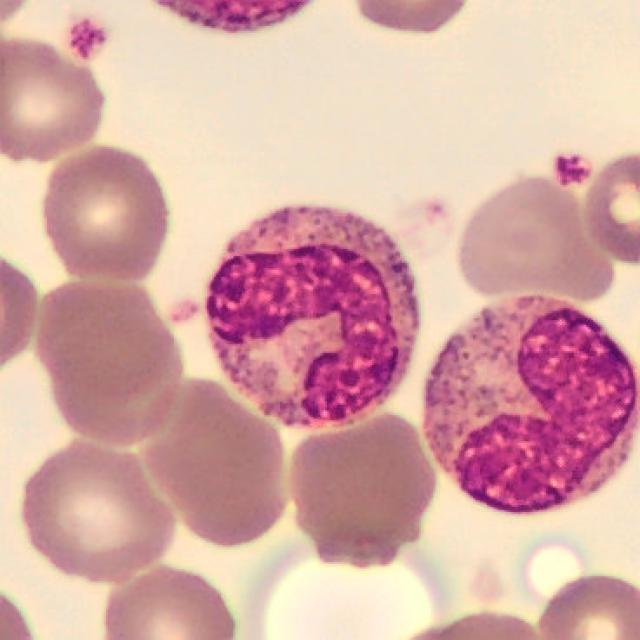Bastonete: (207, 206, 421, 432), (421, 296, 640, 515)
